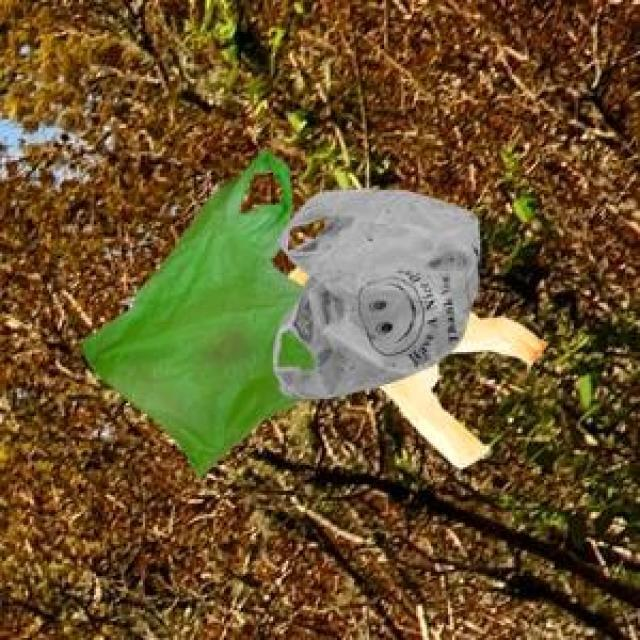waste: (84, 151, 544, 473)
